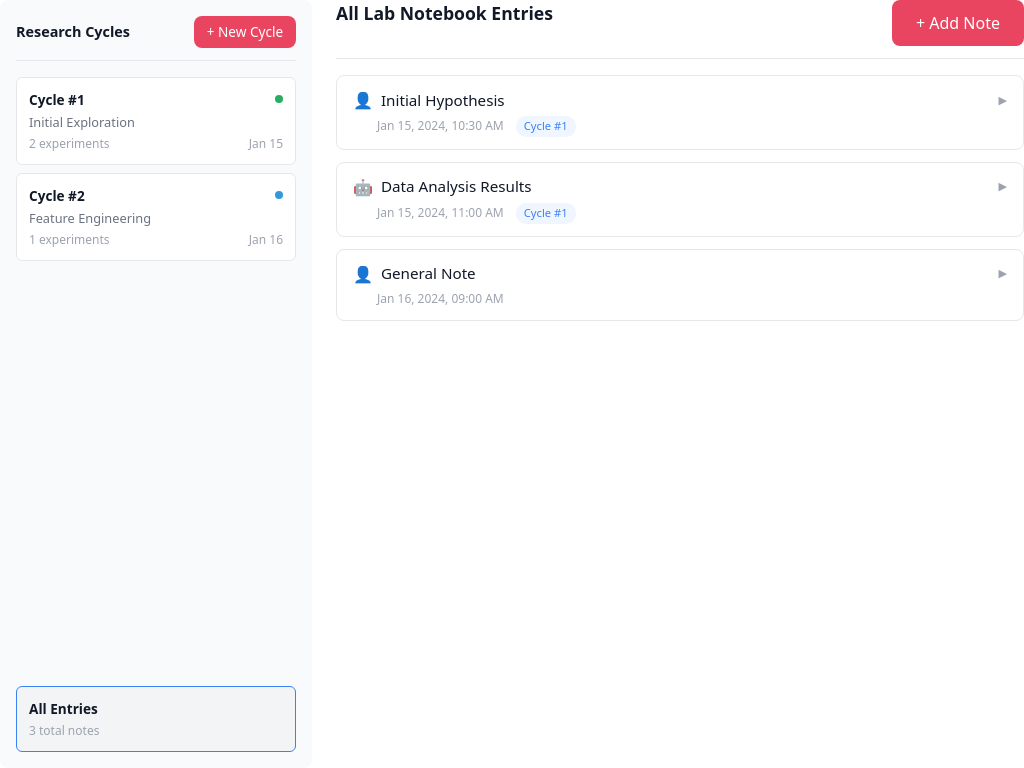
Test: ResearchNotebook › shows delete confirmation when delete is clicked
The width and height of the screenshot is (1024, 768).
Expand entry first
What coordinates should you click on to do the following:
click the heading "Initial Hypothesis"
I would click on:
 (443, 100)
Its box is x1=381 y1=90 x2=505 y2=110.
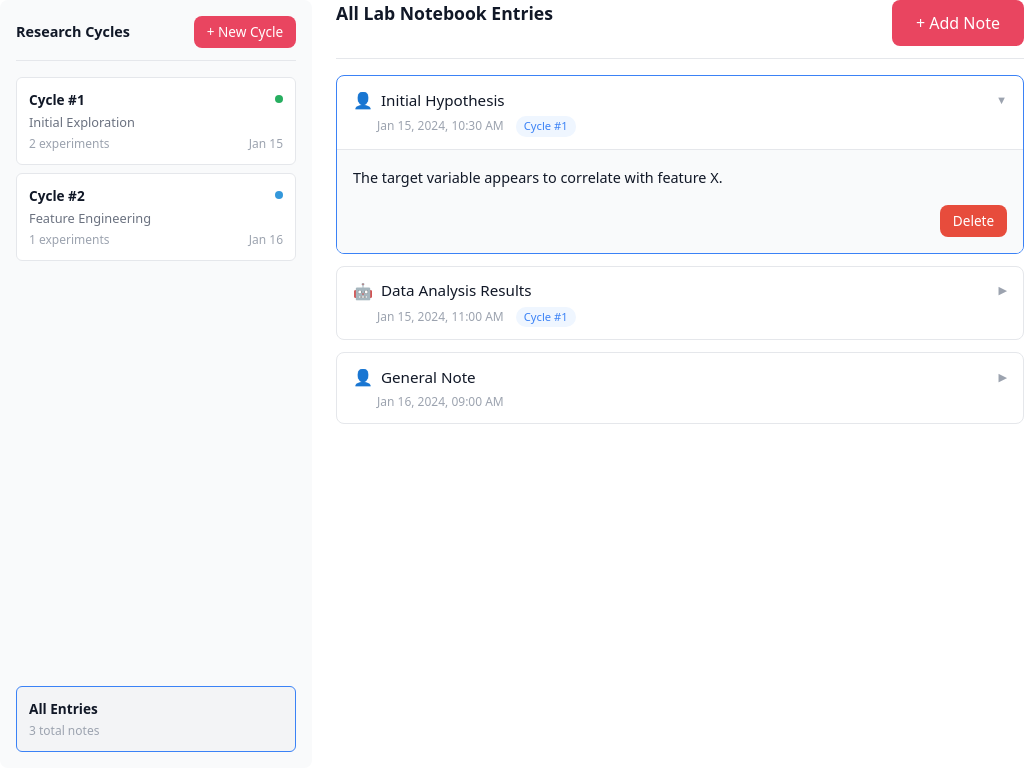
Now the button "Delete" is shown
What coordinates should you click on to do the following:
click the button "Delete"
I would click on:
 (974, 221)
Its box is x1=940 y1=205 x2=1007 y2=237.
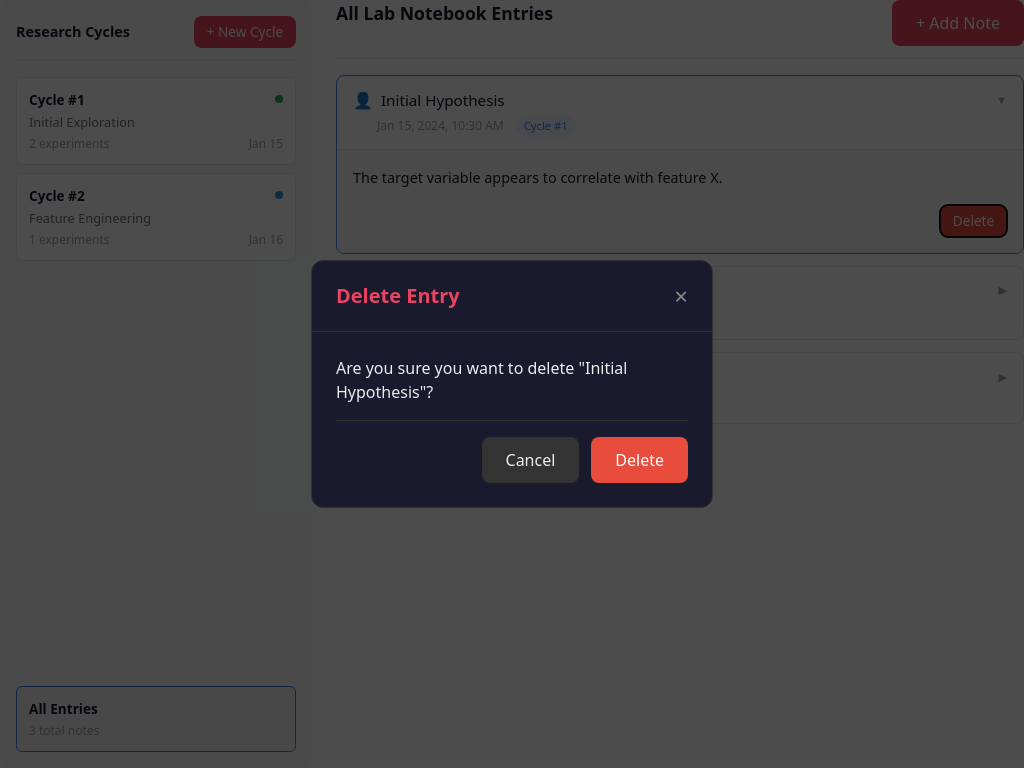
Now the heading "Delete Entry" is shown, box x1=336 y1=281 x2=460 y2=311
